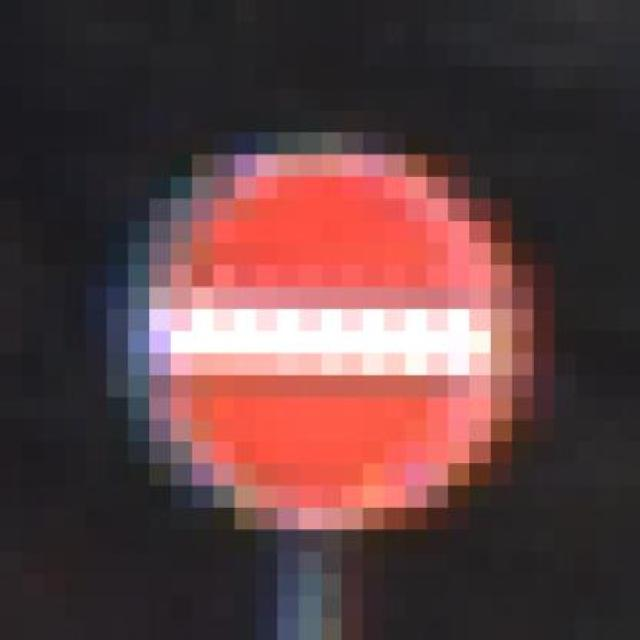No Entry: (42, 110, 576, 552)
